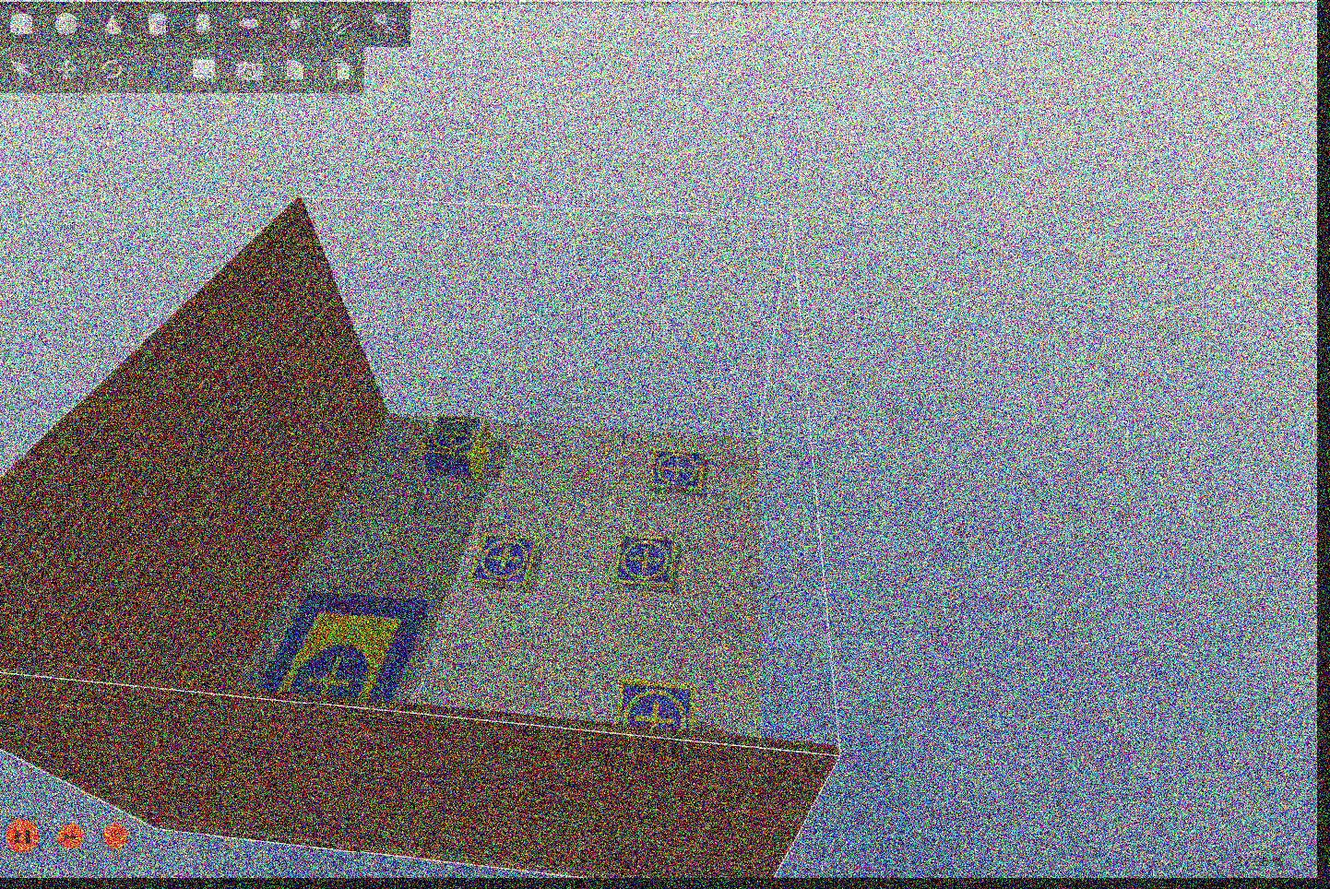large_base: (256, 590, 431, 702)
small_base: (618, 680, 697, 731), (470, 535, 540, 589), (614, 536, 678, 589), (422, 415, 488, 455), (649, 447, 707, 492)
